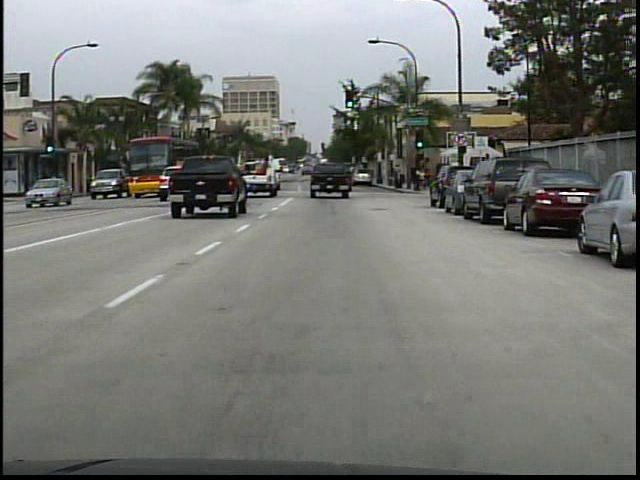person: (418, 167, 428, 192), (425, 169, 433, 191)
